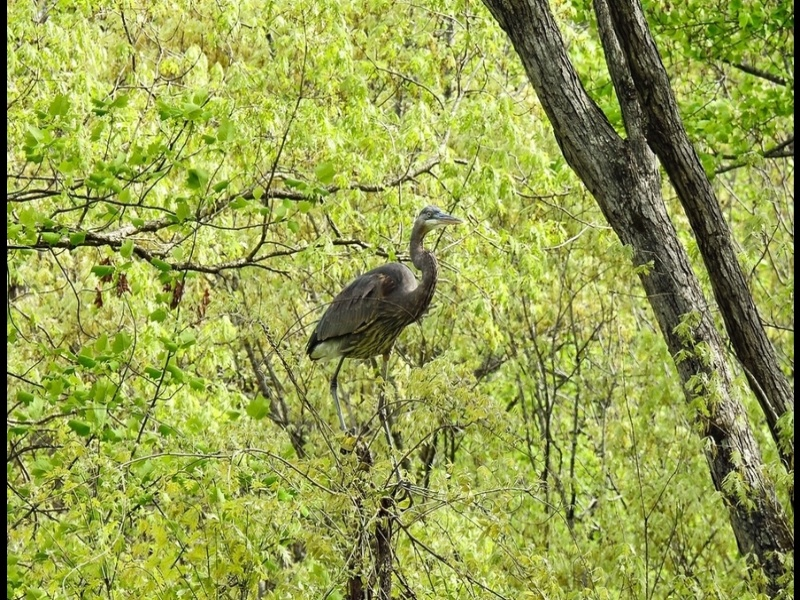heron: (303, 201, 463, 495)
